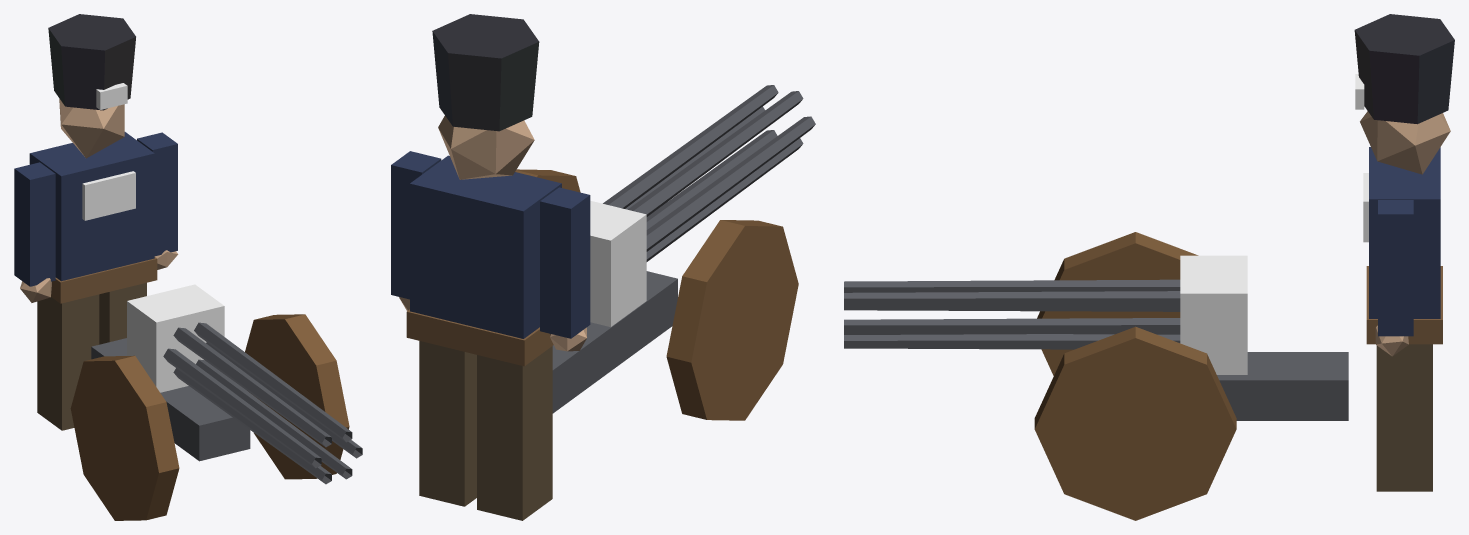
File: Gatling Gun.glb
3 renders of one model, left to right at view 1: azimuth 30°, elevation 25°; view 2: azimuth 150°, elevation 25°; view 3: azimuth 270°, elevation 25°, orthographic. The views are drawn at different scales.
Parts seen in each view (by area): view 1: Units_Gatling Gun; view 2: Units_Gatling Gun; view 3: Units_Gatling Gun.
Boxes of the visible parts, box(x1,y1,x2,y2) form: Units_Gatling Gun: box(14, 14, 362, 520); Units_Gatling Gun: box(391, 14, 815, 520); Units_Gatling Gun: box(844, 14, 1454, 520).
Bounding box in the file's own units: 0.112 × 0.213 × 0.2724.
